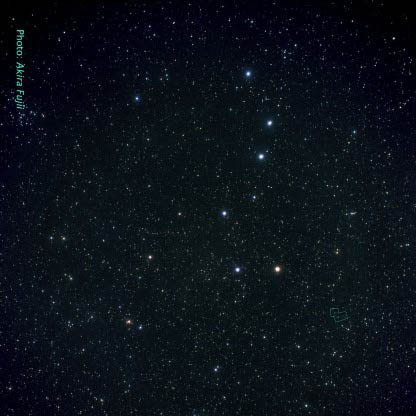Ursa Major: (268, 257, 293, 283), (256, 107, 282, 128), (241, 61, 259, 87), (249, 146, 271, 166), (242, 188, 262, 209), (215, 203, 233, 225), (230, 258, 247, 279)
